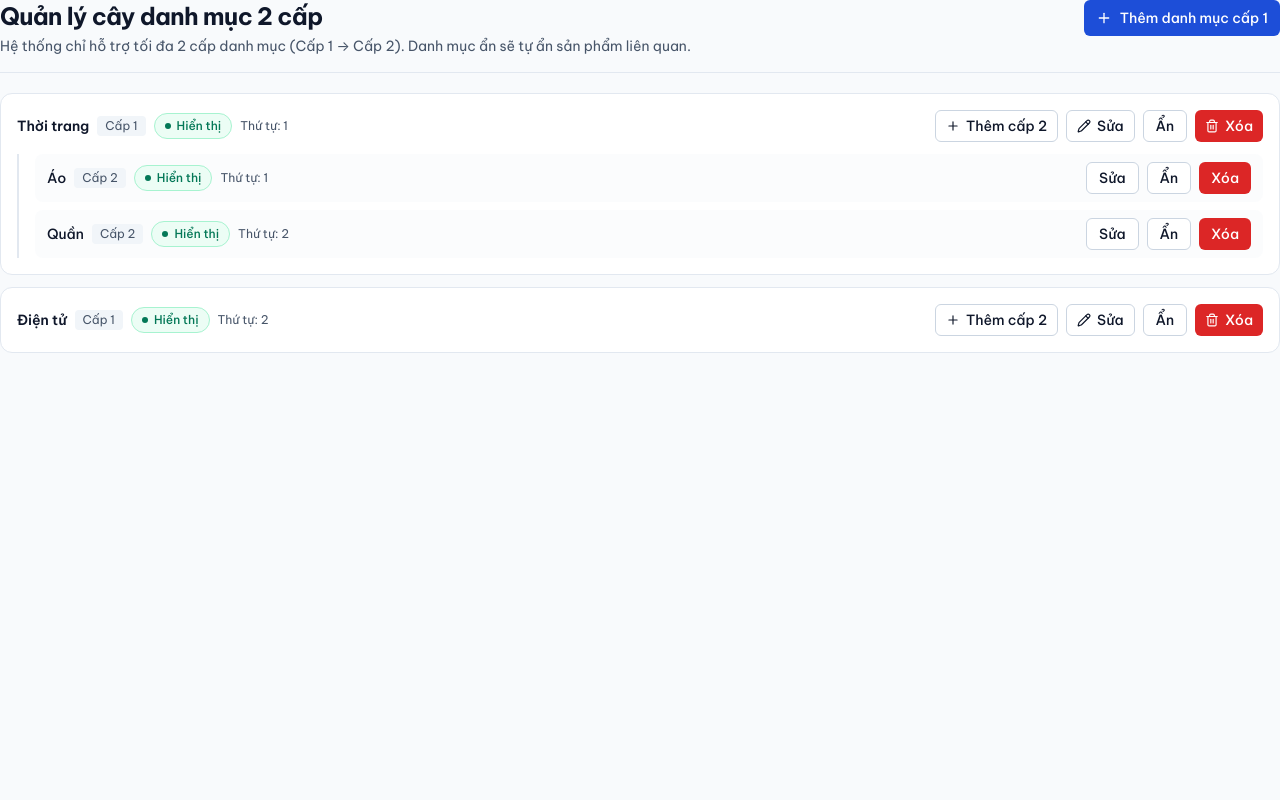
Scenario: AdminCategoriesPage & AdminProductModerationPage (T3-07) › renders 2-level categories without L3 child creation and surfaces 409 CATEGORY_IN_USE
expect the text "Thời trang" is shown: met, box left=17, top=115, right=89, bottom=137
expect the text "Áo" is shown: met, box left=47, top=168, right=66, bottom=188
Click the button "Thêm cấp 2" in the row of "Thời trang" at (996, 126), box left=935, top=110, right=1058, bottom=142
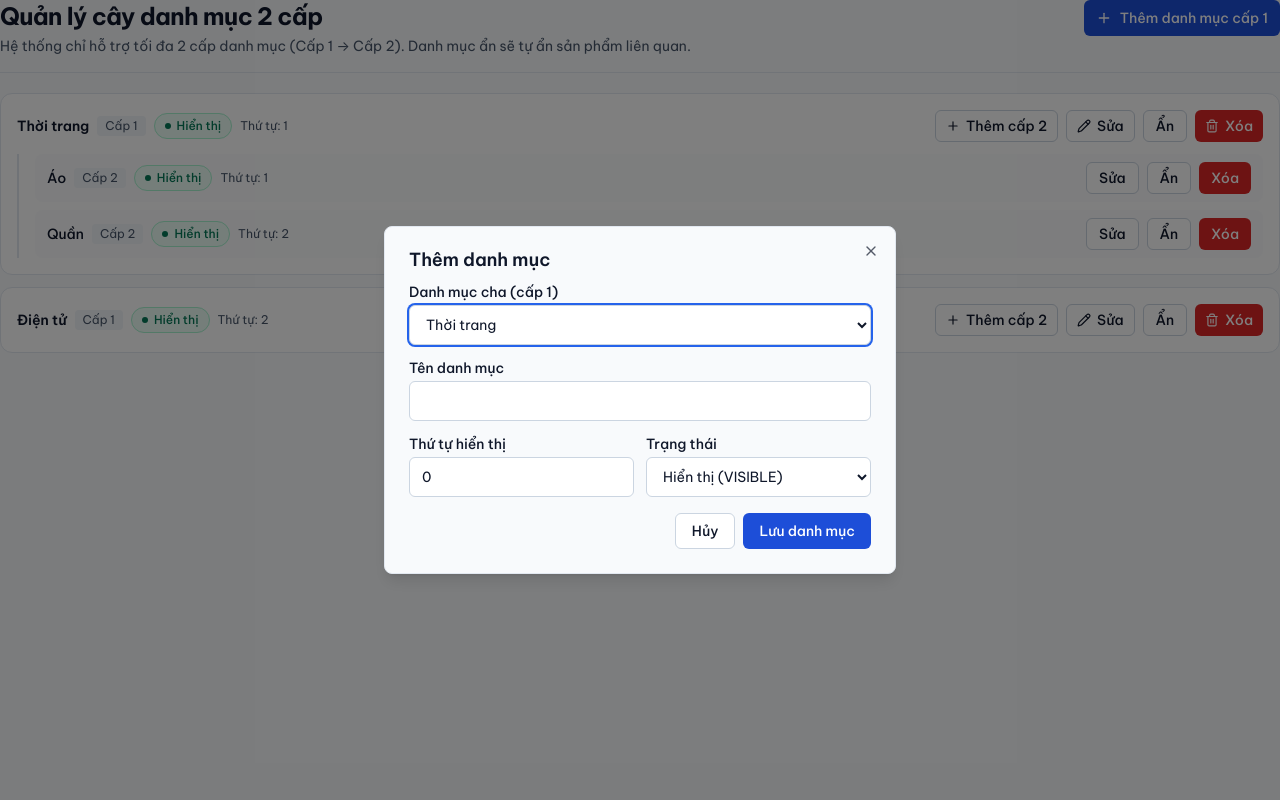
Type "Áo khoác" into the field labelled "Tên danh mục" at (640, 401), box left=409, top=381, right=871, bottom=421
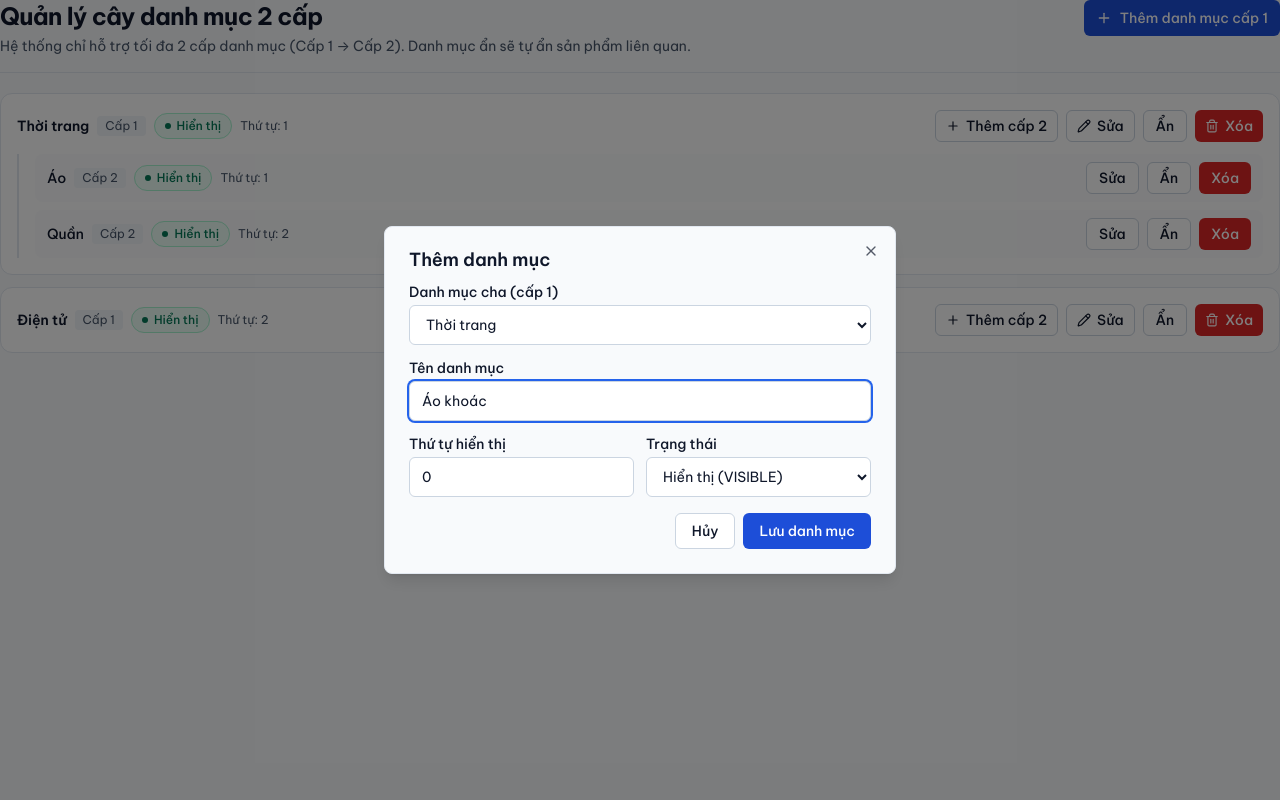
Click the button "Lưu danh mục" at (807, 531), box left=743, top=513, right=871, bottom=549
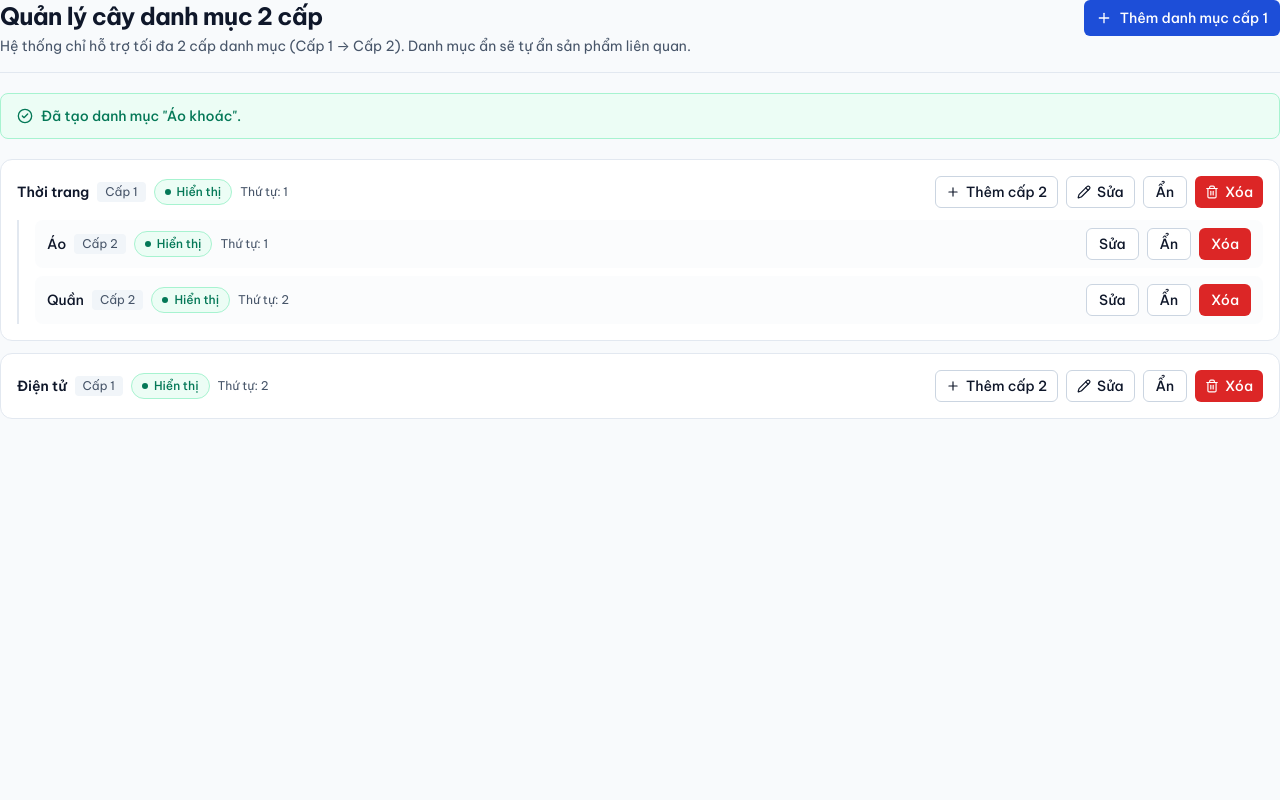
expect the text "Đã tạo danh mục \"Áo khoác\"." is shown: met, box left=0, top=93, right=1279, bottom=139
Click the 2nd button "Xóa" at (1225, 244), box left=1199, top=228, right=1251, bottom=260
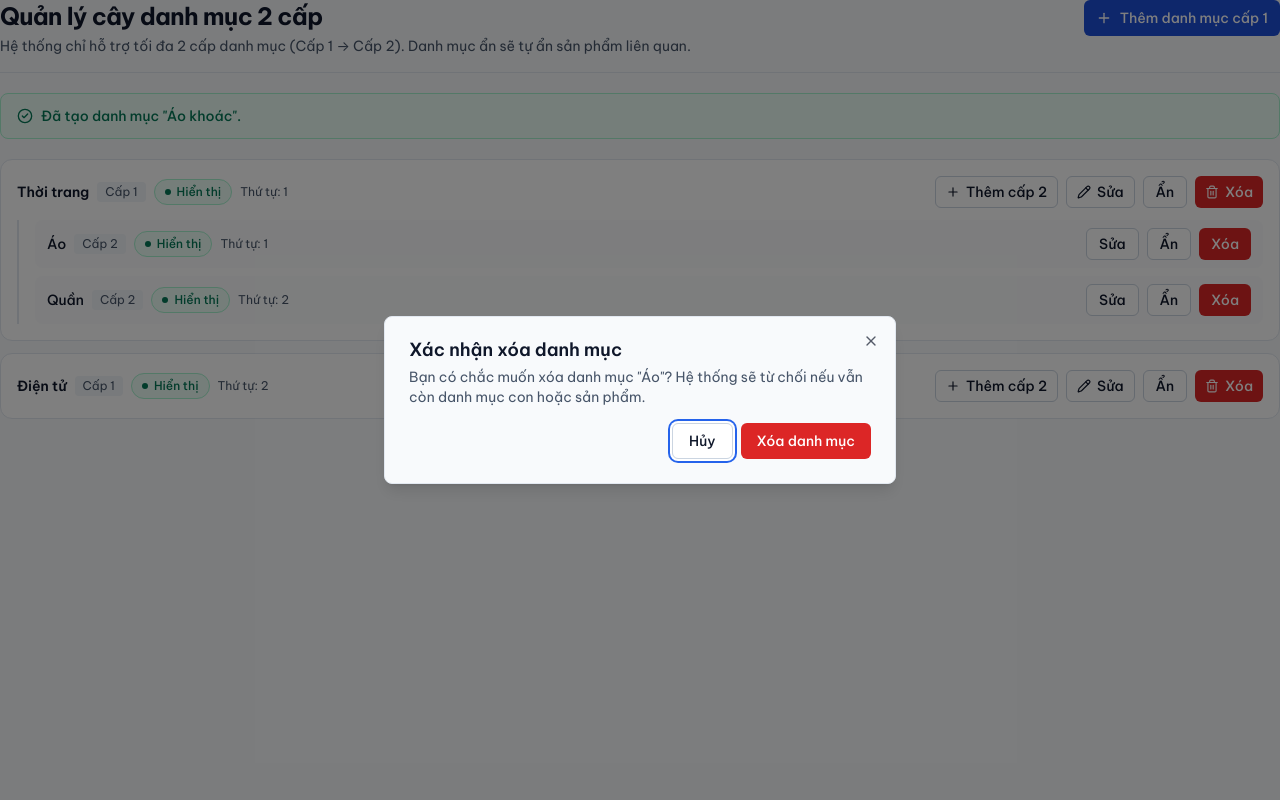
Click the button "Xóa danh mục" at (806, 441), box left=740, top=423, right=871, bottom=459
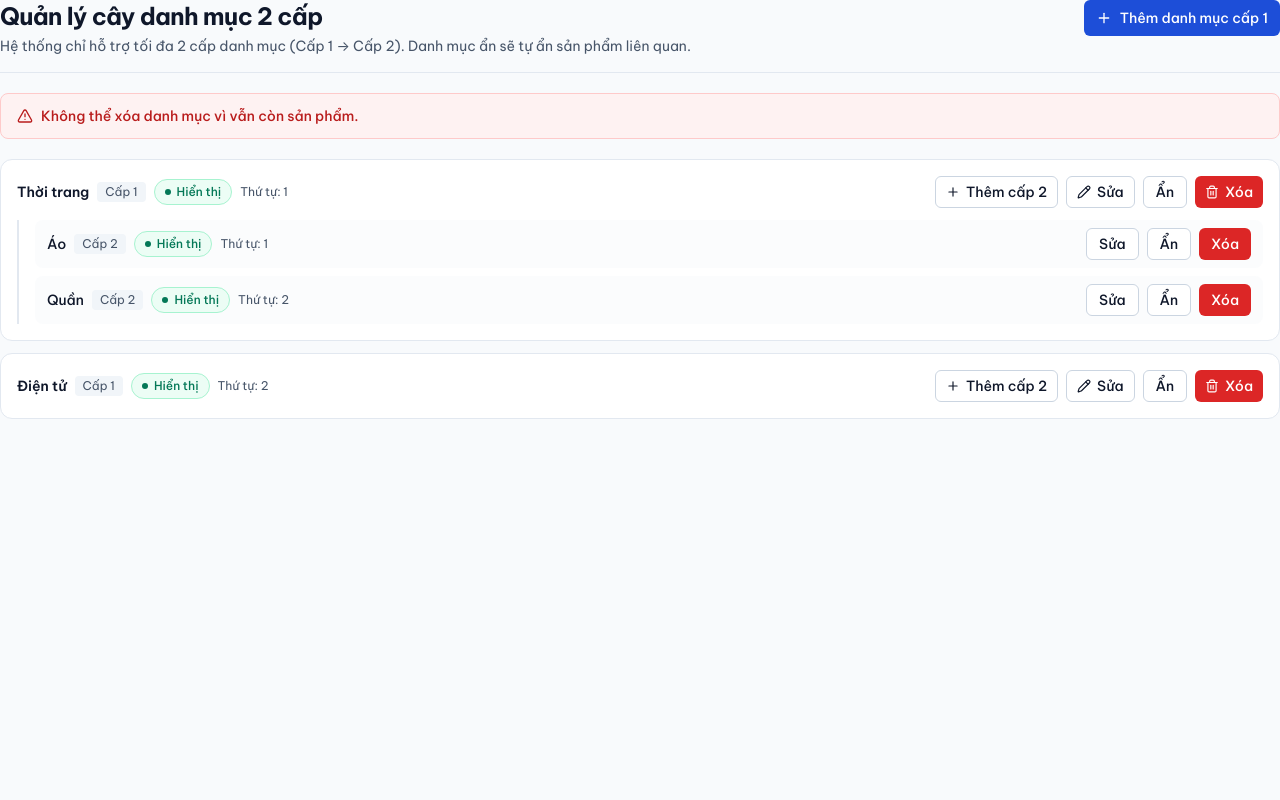
expect the text "Không thể xóa danh mục vì vẫn còn sản phẩm." is shown: met, box left=0, top=93, right=1279, bottom=139
